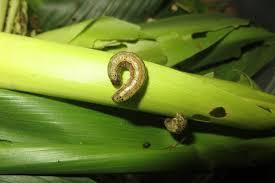fallarmy_worm: (103, 49, 153, 109)
